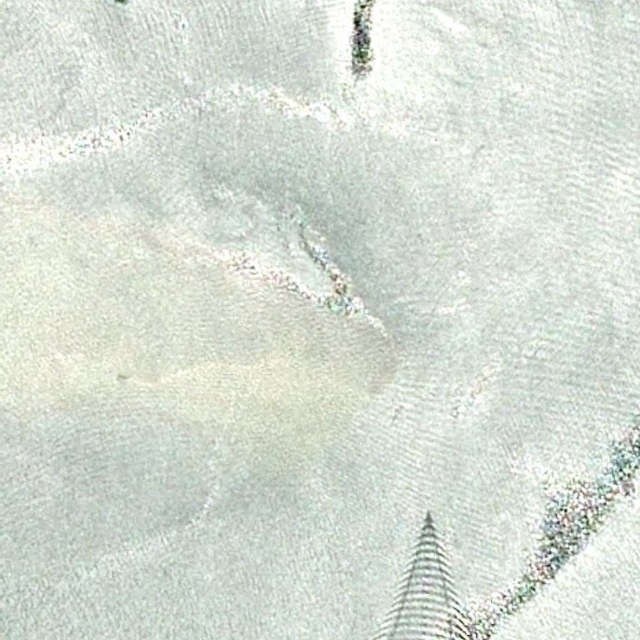wake: (391, 504, 468, 637)
